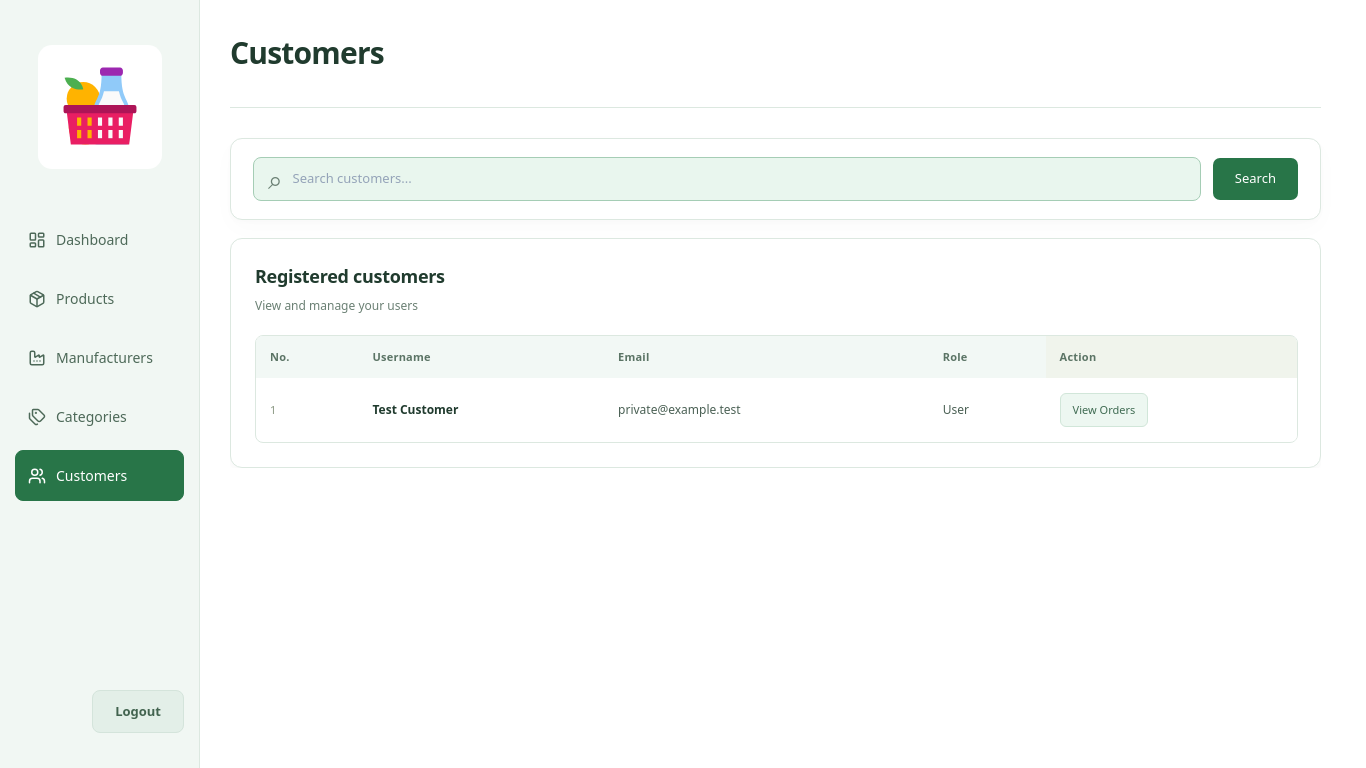
opens customer orders without printing the selected user record
The width and height of the screenshot is (1366, 768).
Expected: the text "Test Customer" is shown, [358,378,604,442]
Click the button "View Orders" at (1104, 410), box [1060,393,1148,427]
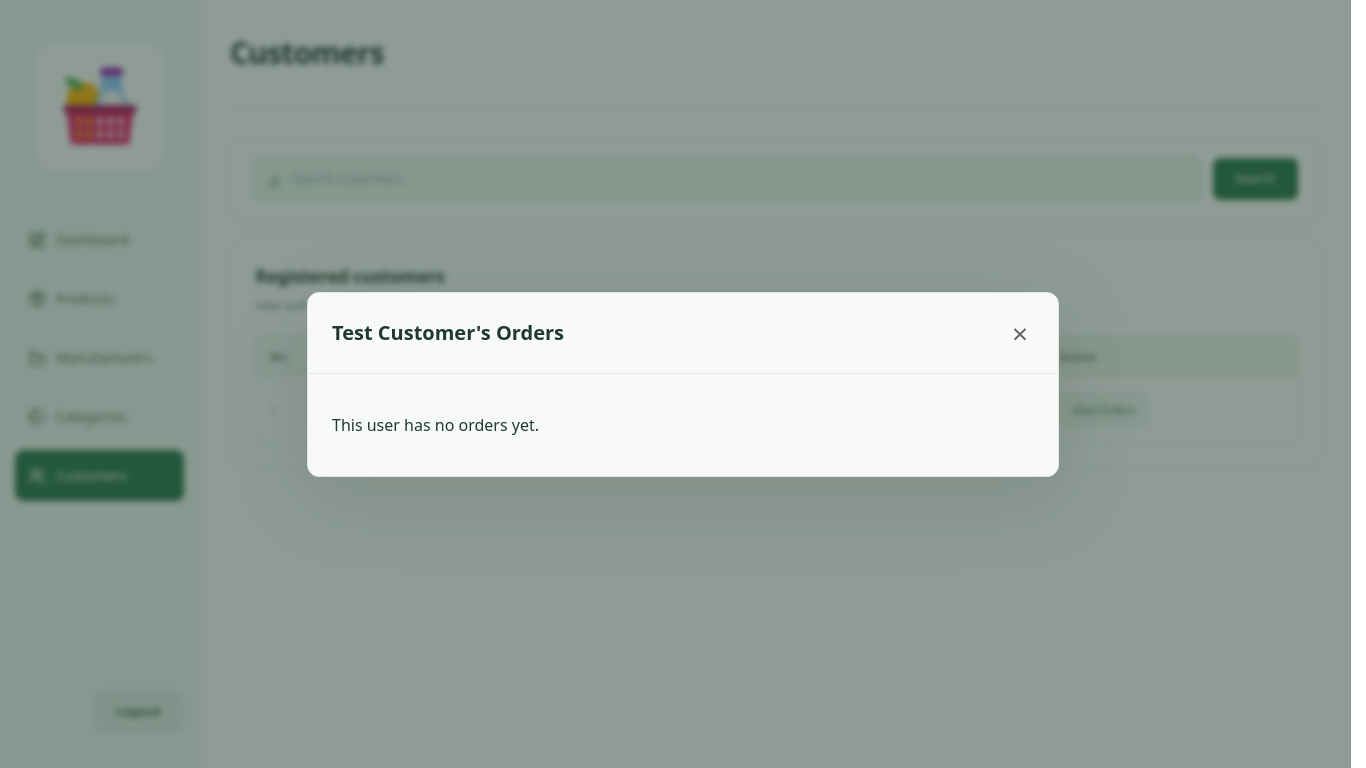
Result: the dialog is shown at [307,292,1059,476]
